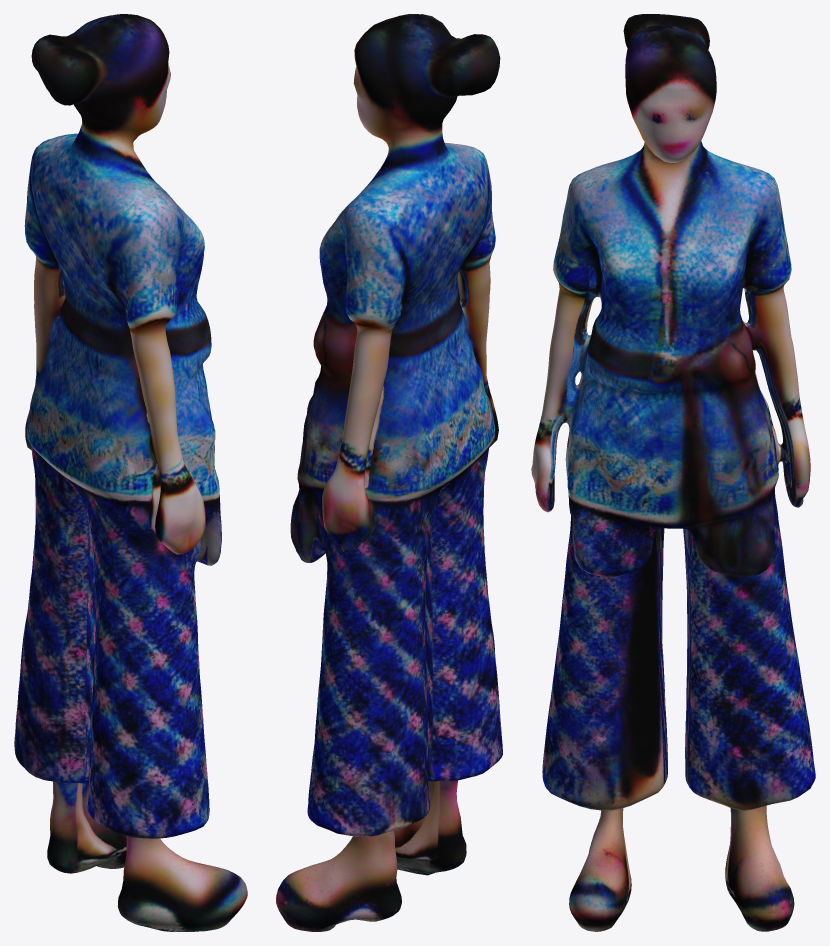
File: e84705c6a9cf_Da_Nang_Women_s_NPC.obj
3 renders of one model, left to right at view 1: azimuth 30°, elevation 25°; view 2: azimuth 150°, elevation 25°; view 3: azimuth 270°, elevation 25°, orthographic. The views are drawn at different scales.
Visible parts, largest first — view 1: mesh; view 2: mesh; view 3: mesh.
Part boxes in pixels (x1,y1,x2,y2): mesh: [14, 14, 247, 931]; mesh: [276, 14, 502, 931]; mesh: [531, 14, 815, 931].
Size of the model in its own units: 0.1969 by 0.9997 by 0.2961.
1 material, 1 textured.
